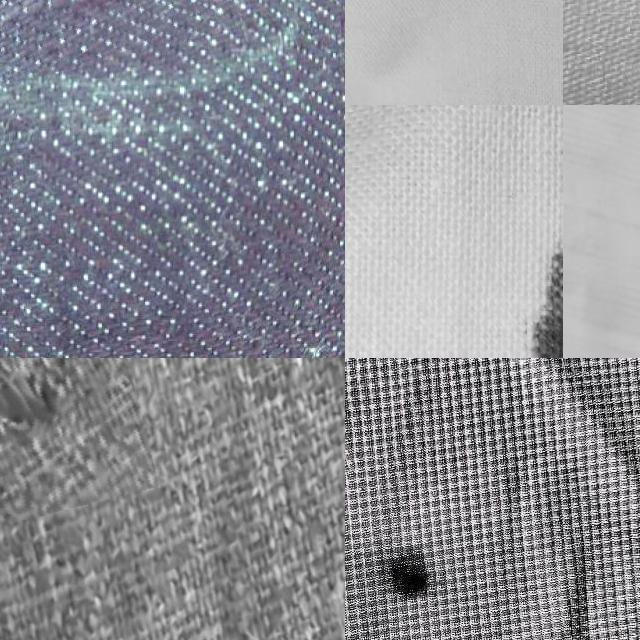Hole: (345, 506, 462, 640)
seam: (0, 358, 148, 536)
